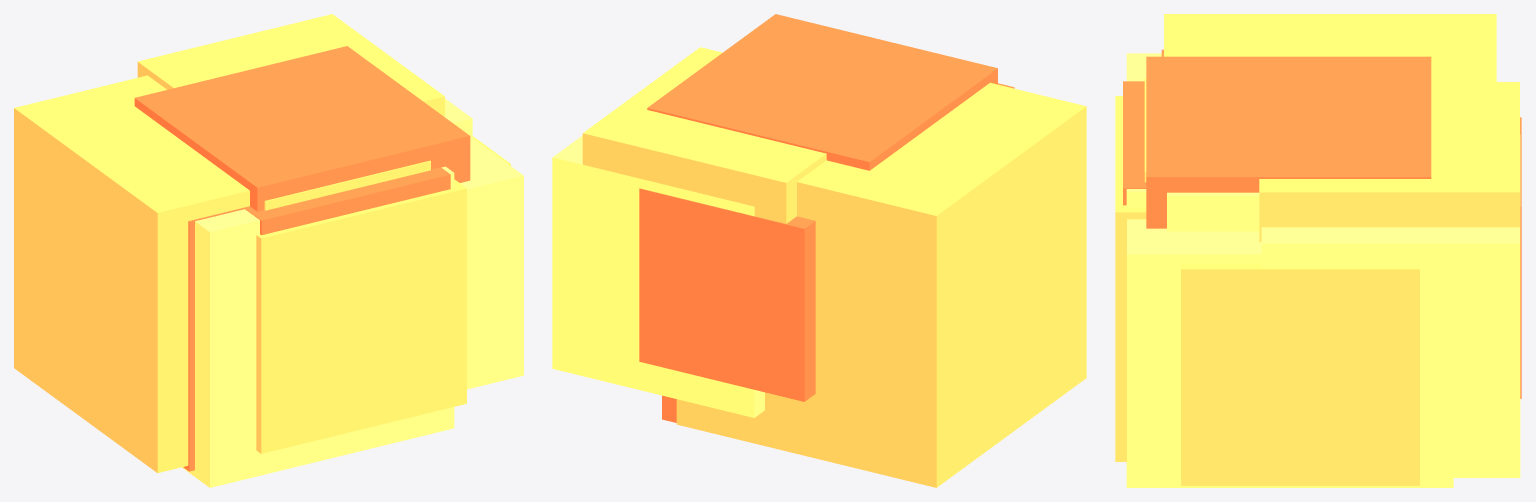
Rendered from hit-bomb.glb.
The picture shows the model from 3 angles, left to right: view 1: azimuth 30°, elevation 25°; view 2: azimuth 150°, elevation 25°; view 3: azimuth 270°, elevation 25°; orthographic projection. The views are drawn at different scales.
Visible parts, largest first — view 1: cube_09, cube_15, cube_10, cube_08, cube_11, cube_18, cube_07, cube_13, cube_12, cube_05; view 2: cube_09, cube_04, cube_10, cube_05, cube_18; view 3: cube_00, cube_10, cube_05, cube_18, cube_11, cube_09, cube_15, cube_17, cube_07, cube_08, cube_04.
Part boxes in pixels (x1,y1,x2,y2): cube_09: [14, 75, 249, 473]; cube_15: [256, 179, 466, 453]; cube_10: [134, 46, 470, 211]; cube_08: [182, 166, 454, 487]; cube_11: [460, 136, 523, 389]; cube_18: [137, 14, 444, 116]; cube_07: [245, 167, 450, 235]; cube_13: [183, 206, 250, 471]; cube_12: [264, 160, 430, 210]; cube_05: [445, 98, 472, 137]; cube_09: [676, 82, 1086, 487]; cube_04: [639, 188, 815, 401]; cube_10: [647, 14, 997, 170]; cube_05: [552, 135, 764, 417]; cube_18: [582, 47, 826, 223]; cube_00: [1181, 263, 1419, 485]; cube_10: [1146, 56, 1431, 228]; cube_05: [1261, 134, 1520, 477]; cube_18: [1259, 82, 1519, 241]; cube_11: [1127, 219, 1382, 486]; cube_09: [1164, 14, 1496, 81]; cube_15: [1115, 96, 1146, 461]; cube_17: [1167, 192, 1259, 231]; cube_07: [1123, 81, 1146, 205]; cube_08: [1126, 53, 1453, 487]; cube_04: [1520, 117, 1521, 398].
Size of the model in its own units: 0.7389 by 0.5486 by 0.6213.
